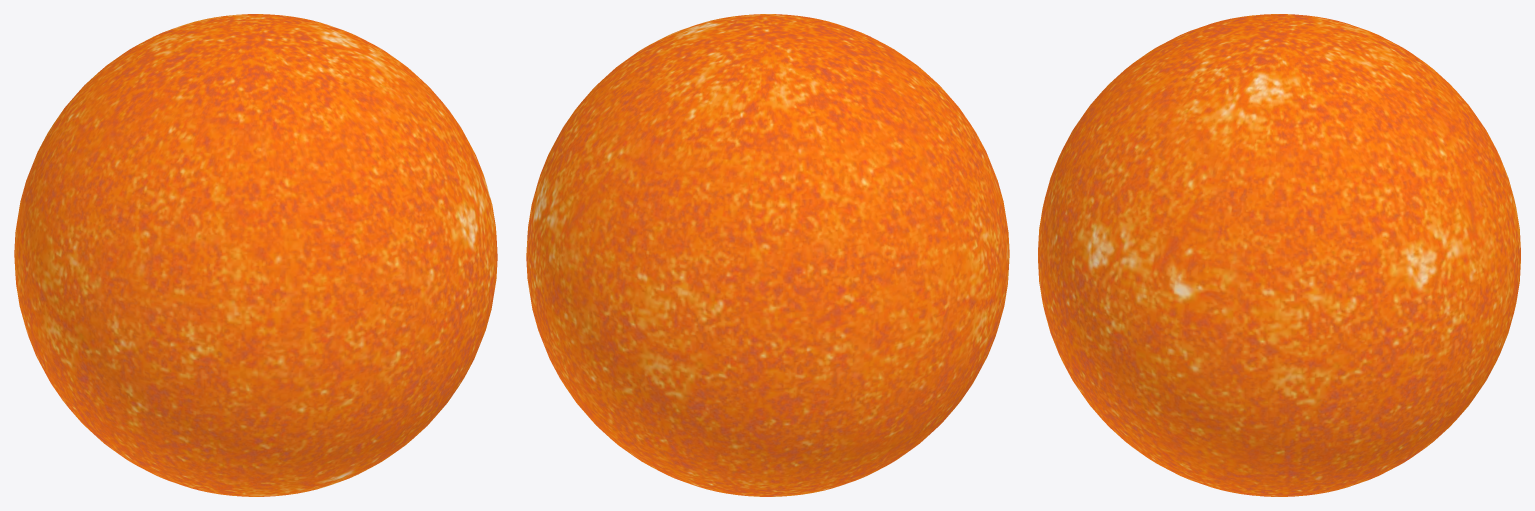
The model's file is sun.glb.
The picture shows the model from 3 angles, left to right: view 1: azimuth 30°, elevation 25°; view 2: azimuth 150°, elevation 25°; view 3: azimuth 270°, elevation 25°; orthographic projection.
Parts seen in each view (by area): view 1: UnstableStarref; view 2: UnstableStarref; view 3: UnstableStarref.
Part boxes in pixels (bbox=[...]): UnstableStarref: bbox=[14, 14, 497, 496]; UnstableStarref: bbox=[526, 14, 1009, 496]; UnstableStarref: bbox=[1038, 14, 1520, 496].
Size of the model in its own units: 8.47 by 8.48 by 8.47.
Materials: 1 (1 with a texture image).
